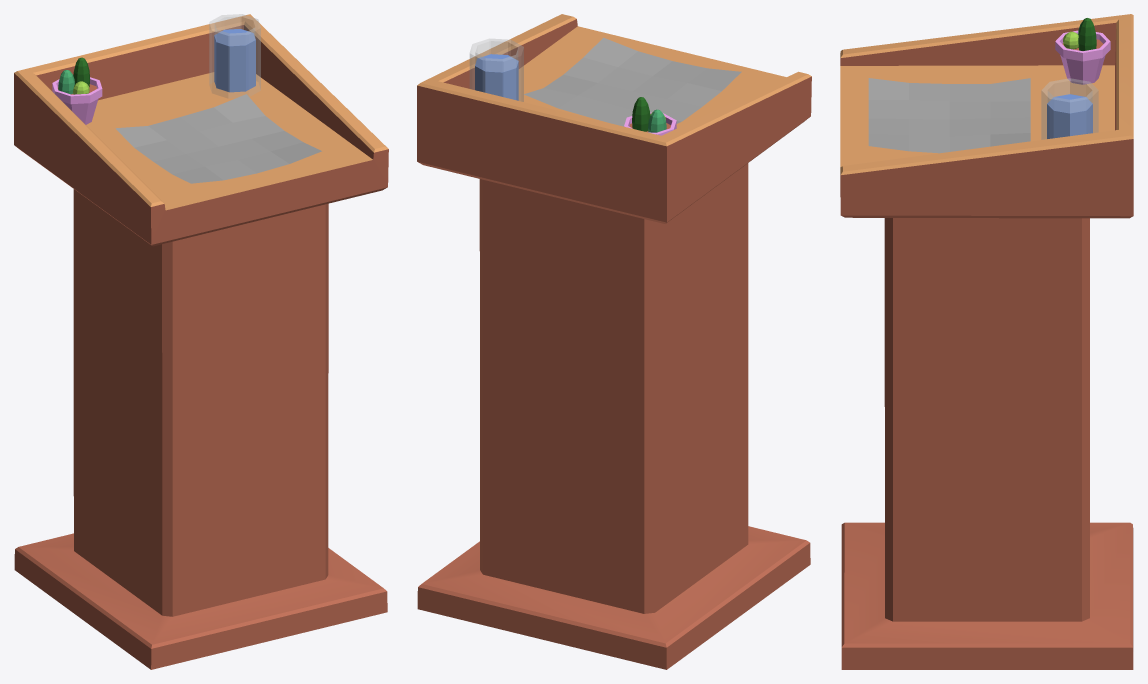
The model's file is Lectern.fbx.
3 renders of one model, left to right at view 1: azimuth 30°, elevation 25°; view 2: azimuth 150°, elevation 25°; view 3: azimuth 270°, elevation 25°, orthographic. The views are drawn at different scales.
Parts seen in each view (by area): view 1: Lectern, Plan, Glas, Water, Cactus; view 2: Lectern, Plan, Glas, Water, Cactus; view 3: Lectern, Plan, Glas, Cactus, Water.
Part boxes in pixels (<box>): Lectern: <box>14,14,388,669</box>; Plan: <box>115,94,321,183</box>; Glas: <box>209,14,260,98</box>; Water: <box>214,29,255,92</box>; Cactus: <box>52,57,102,124</box>; Lectern: <box>417,14,811,669</box>; Plan: <box>524,37,741,126</box>; Glas: <box>470,38,523,101</box>; Water: <box>475,54,518,100</box>; Cactus: <box>624,97,676,135</box>; Lectern: <box>840,14,1133,669</box>; Plan: <box>868,78,1030,153</box>; Glas: <box>1041,78,1098,139</box>; Cactus: <box>1055,18,1110,84</box>; Water: <box>1047,94,1092,138</box>.
Size of the model in its own units: 1.81 by 3.78 by 1.81.
3 materials, 1 textured.
